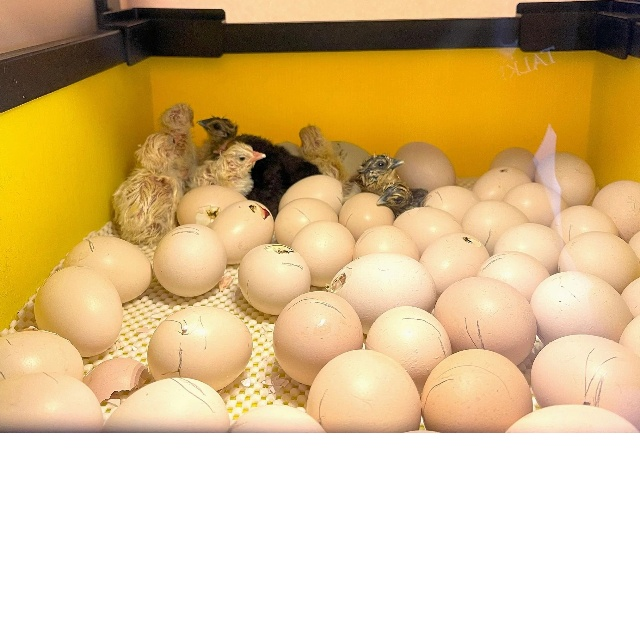trung_ga: (431, 275, 542, 370), (421, 342, 536, 431), (524, 331, 640, 419), (303, 347, 421, 431), (143, 305, 253, 391), (270, 290, 364, 387), (326, 253, 436, 333), (33, 263, 122, 359), (98, 376, 230, 435), (528, 268, 631, 343), (367, 305, 458, 387), (66, 234, 151, 308), (2, 372, 107, 430), (235, 241, 316, 316), (153, 221, 227, 299), (554, 230, 639, 289), (1, 325, 86, 382), (211, 198, 277, 267), (474, 249, 556, 303), (289, 218, 356, 284), (420, 230, 488, 289), (390, 137, 454, 194), (459, 198, 526, 251), (346, 222, 421, 267), (276, 171, 353, 214), (505, 178, 573, 226), (174, 184, 249, 227), (335, 190, 396, 234)
